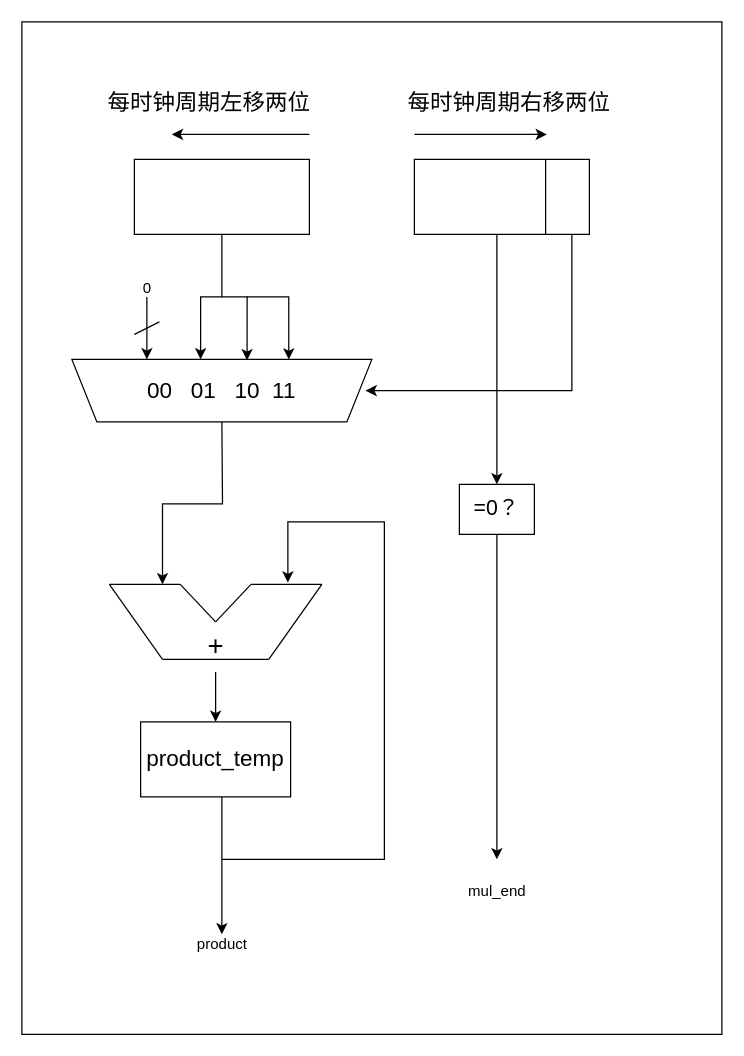
The diagram is 744 pixels wide and 1056 high, and some of its shapes have lost their labels. Here are the shapes that lost their labels. From the top down, the centre of each, then its label:
At point 221,196: "multiplicand".
At point 501,196: "multiplier".
